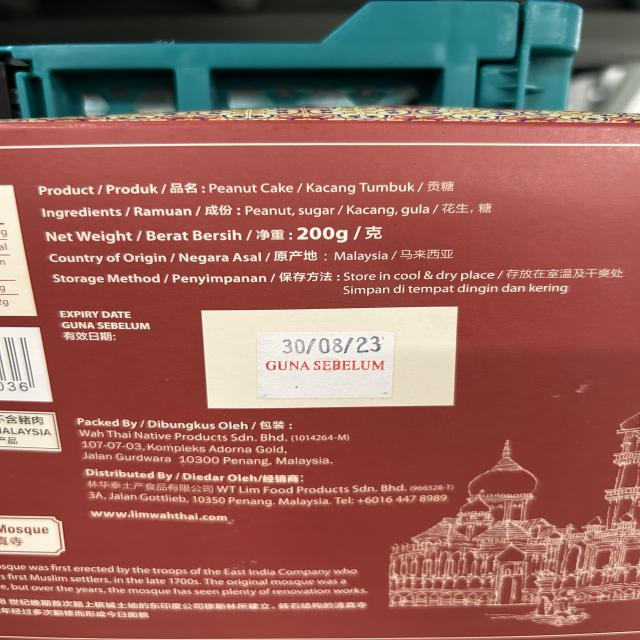object_name: (8, 124, 640, 626)
